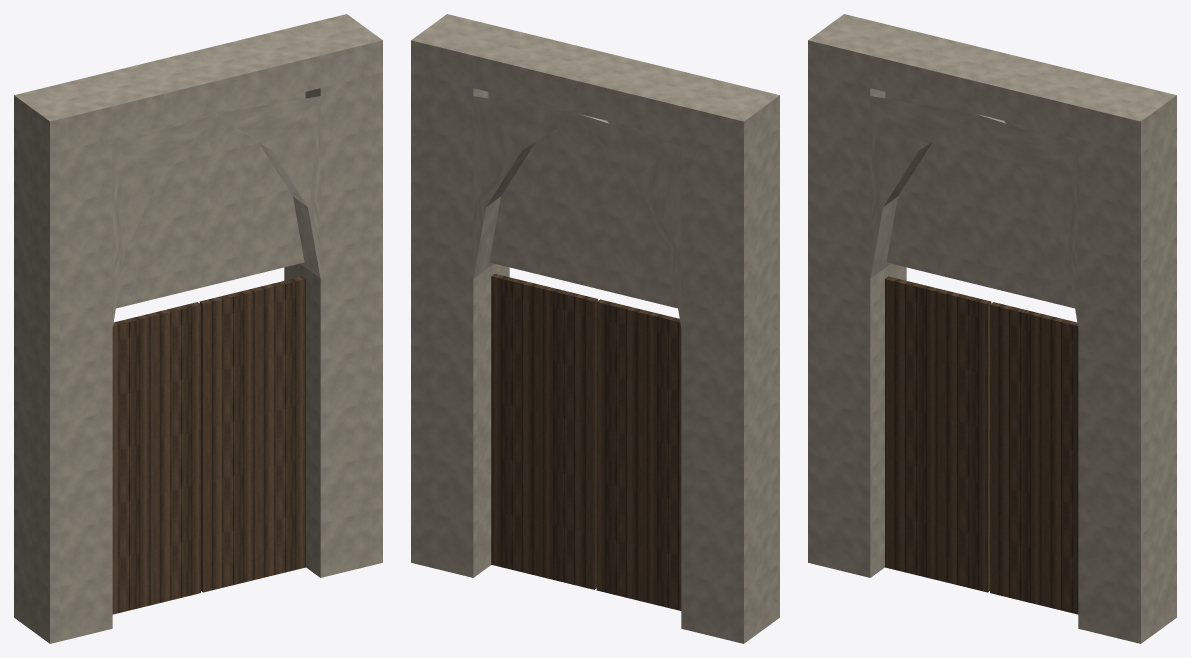
Rendered from Portal_Gothic_1_LOD2.gltf.
3 renders of one model, left to right at view 1: azimuth 30°, elevation 25°; view 2: azimuth 150°, elevation 25°; view 3: azimuth 330°, elevation 25°, orthographic.
Visible parts, largest first — view 1: Portal_Gothic_1_LOD2; view 2: Portal_Gothic_1_LOD2; view 3: Portal_Gothic_1_LOD2.
Part boxes in pixels (left/top/right/bottom): Portal_Gothic_1_LOD2: left=14, top=14, right=382, bottom=643; Portal_Gothic_1_LOD2: left=411, top=14, right=779, bottom=643; Portal_Gothic_1_LOD2: left=808, top=14, right=1176, bottom=643.
Size of the model in its own units: 6.4 by 9.6 by 1.2.
Materials: 2 (2 with a texture image).
